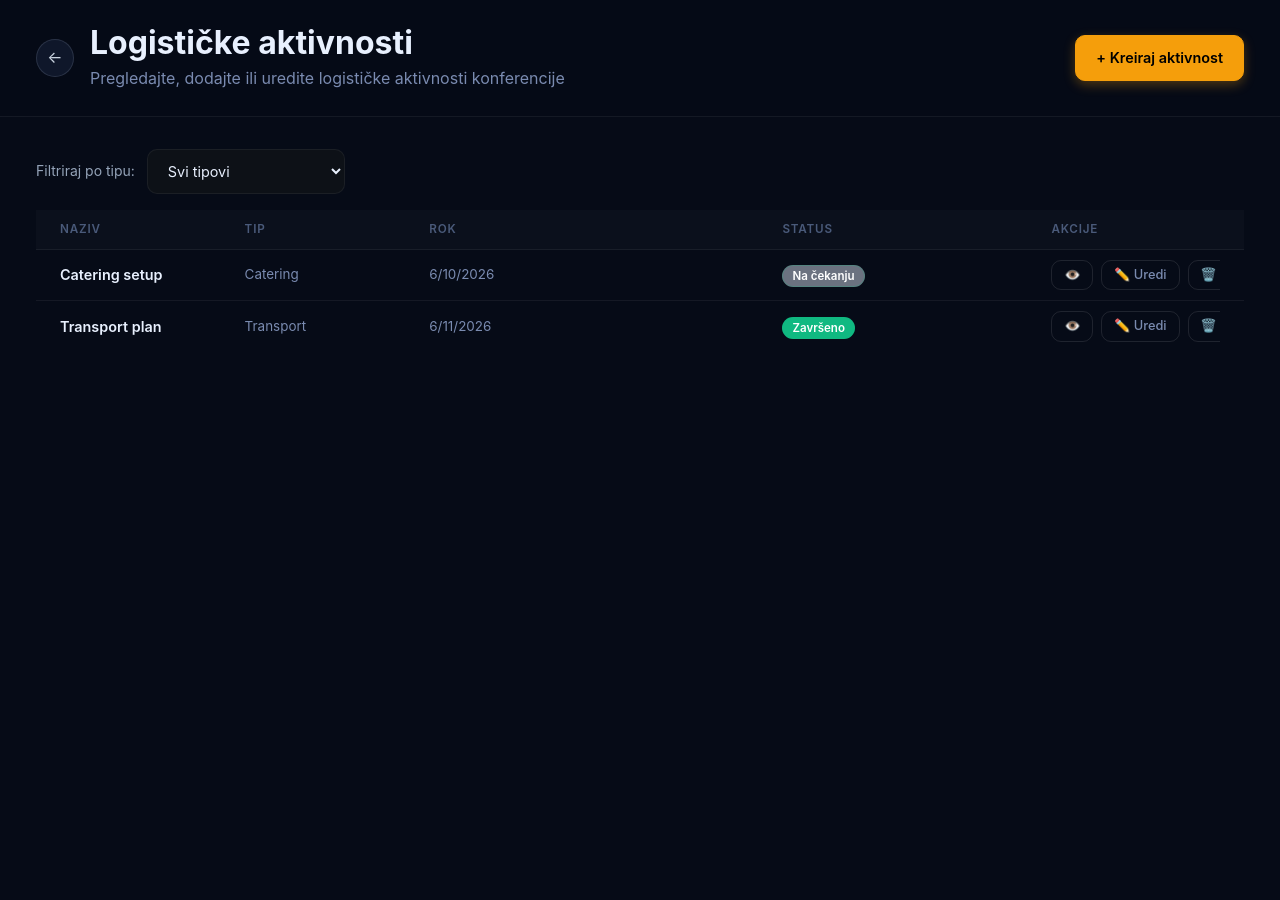
Scenario: LogisticsPage › submit validne forme poziva create API i osvjezava listu
The image size is (1280, 900).
Expected: the text "Catering setup" is shown, [60, 266, 163, 283]
Click the button "+ Kreiraj aktivnost" at point(1160, 58), box [1075, 36, 1244, 80]
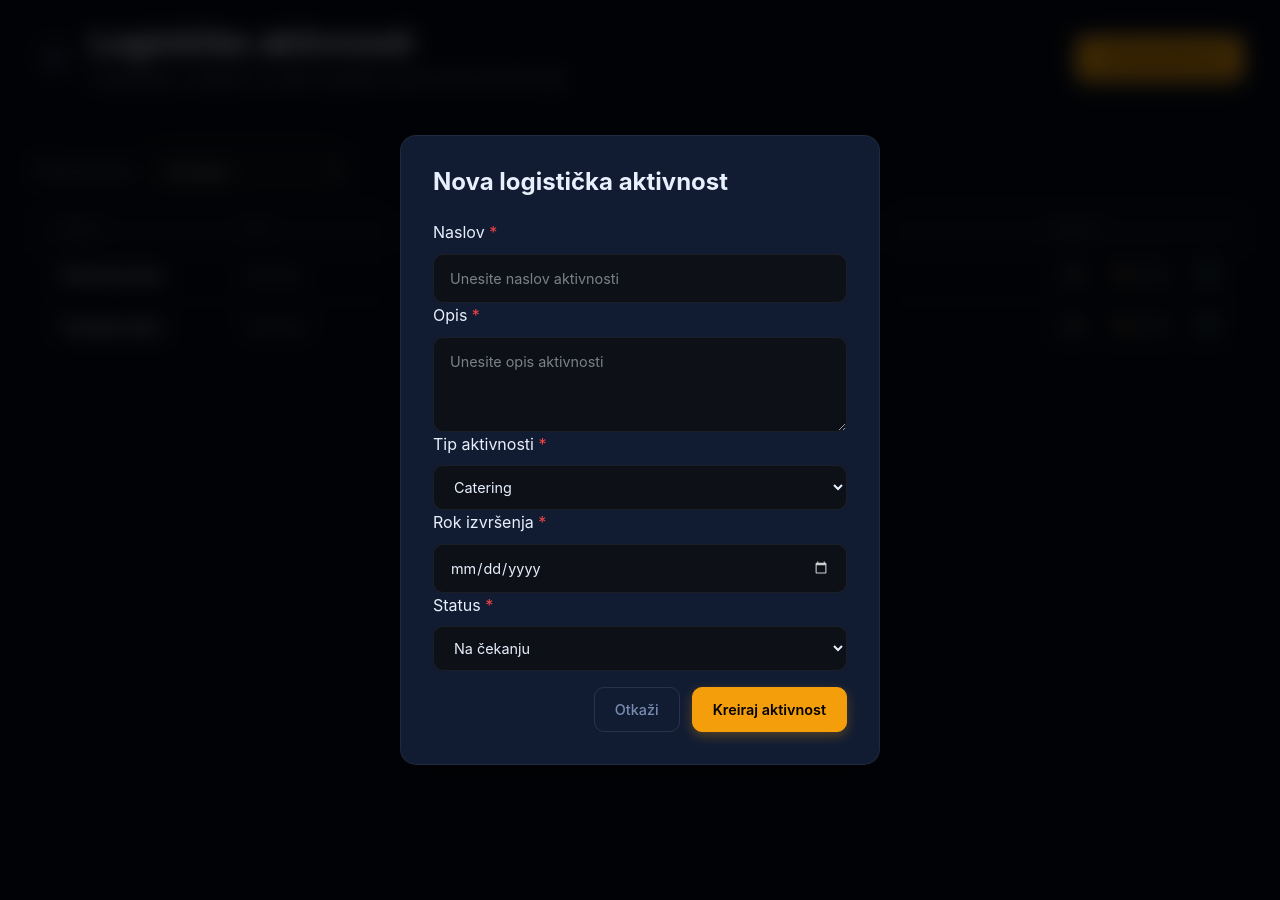
Now the heading "Nova logistička aktivnost" is shown, box [433, 166, 728, 196]
Now the element with placeholder "Unesite naslov aktivnosti" is shown, box [400, 134, 880, 765]
Now the date field is shown, box [433, 544, 847, 593]
Type "Transport check" into the field with placeholder "Unesite naslov aktivnosti" at point(640, 278), box [433, 254, 847, 303]
Type "Confirm vehicles" into the text box with placeholder "Unesite opis aktivnosti" at point(640, 384), box [433, 336, 847, 432]
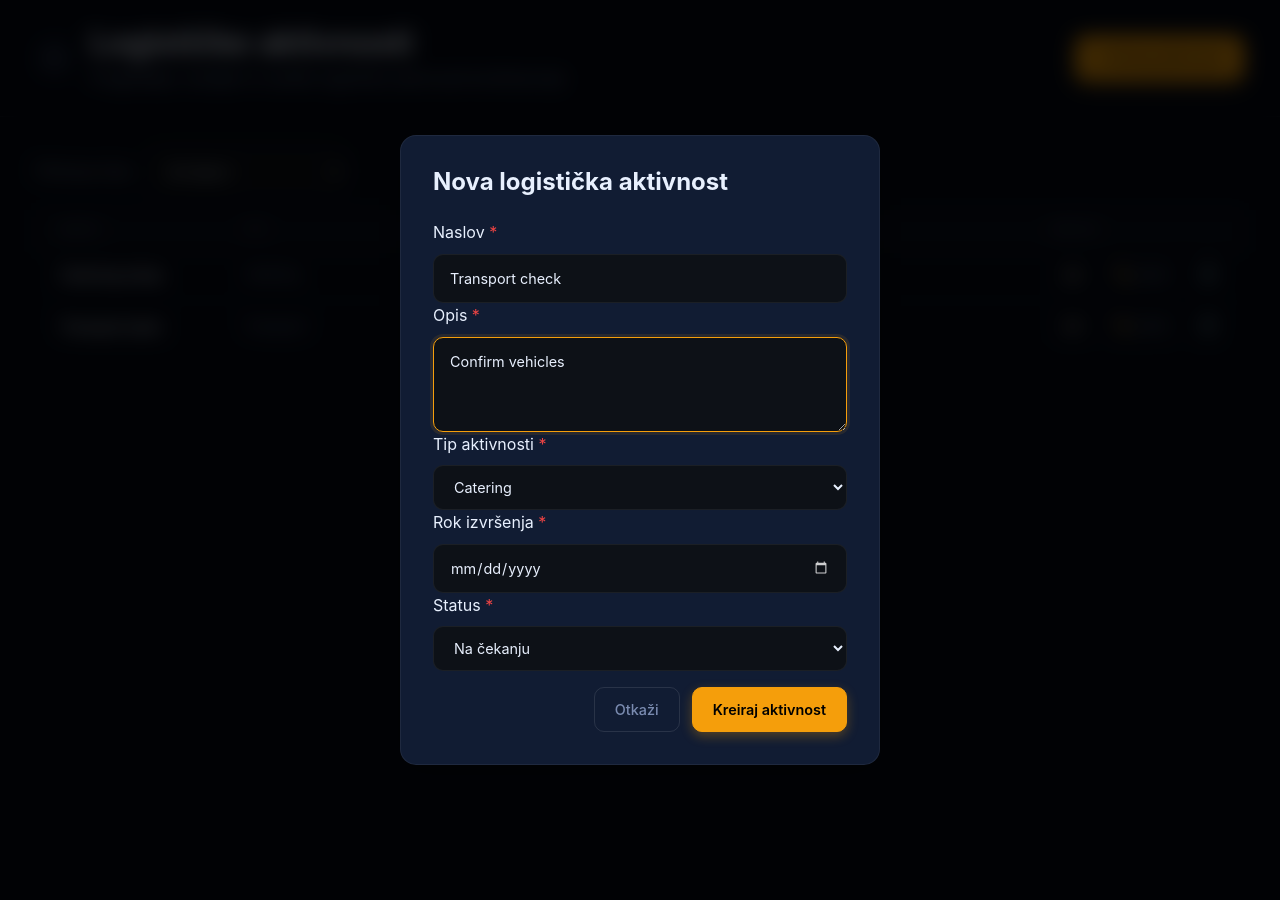
Select "Transport" in the dropdown below "Tip aktivnosti" at point(640, 488), box [433, 465, 847, 510]
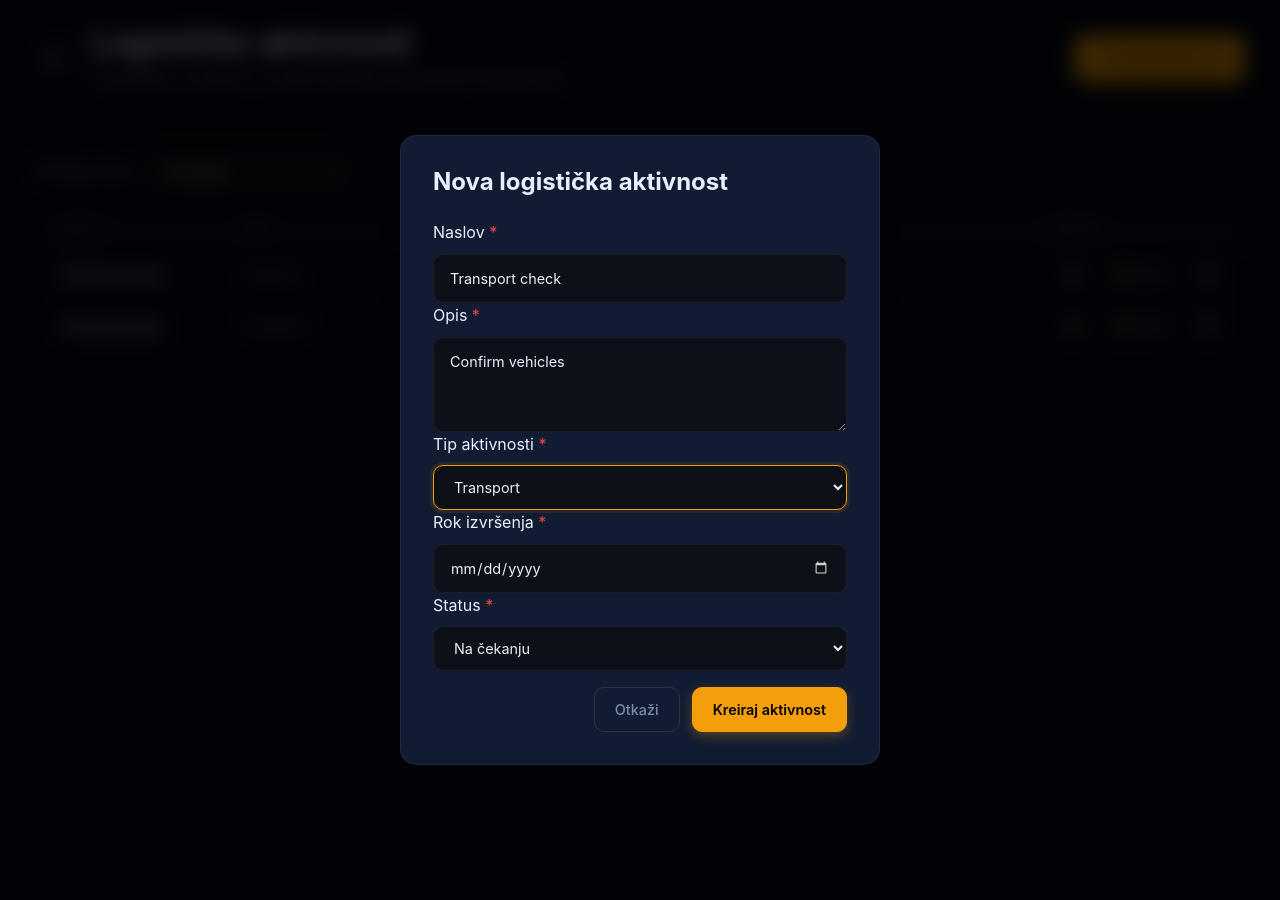
Select "U toku" in the 2nd dropdown at point(640, 649), box [433, 626, 847, 671]
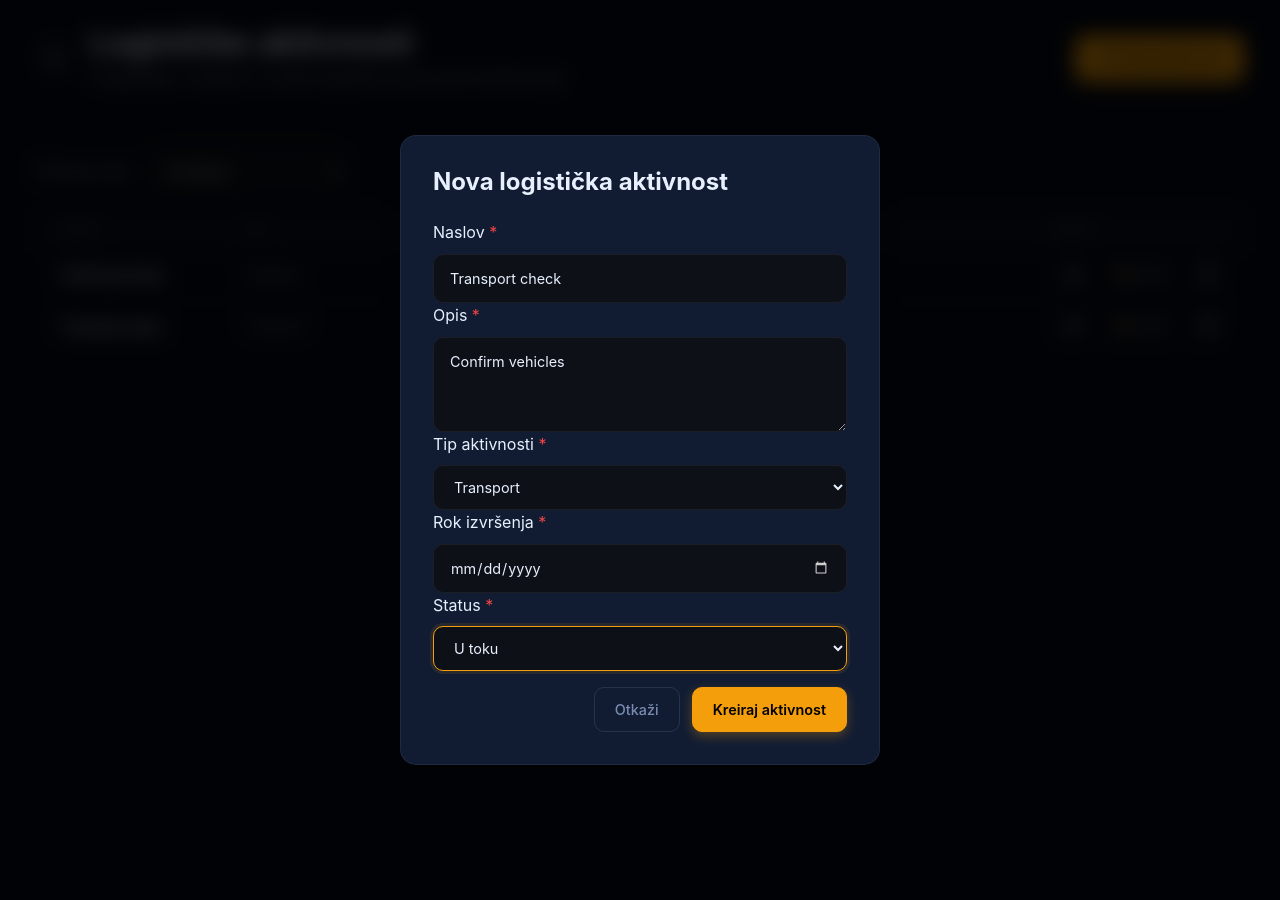
Type "2026-06-20" into the date field at point(640, 568), box [433, 544, 847, 593]
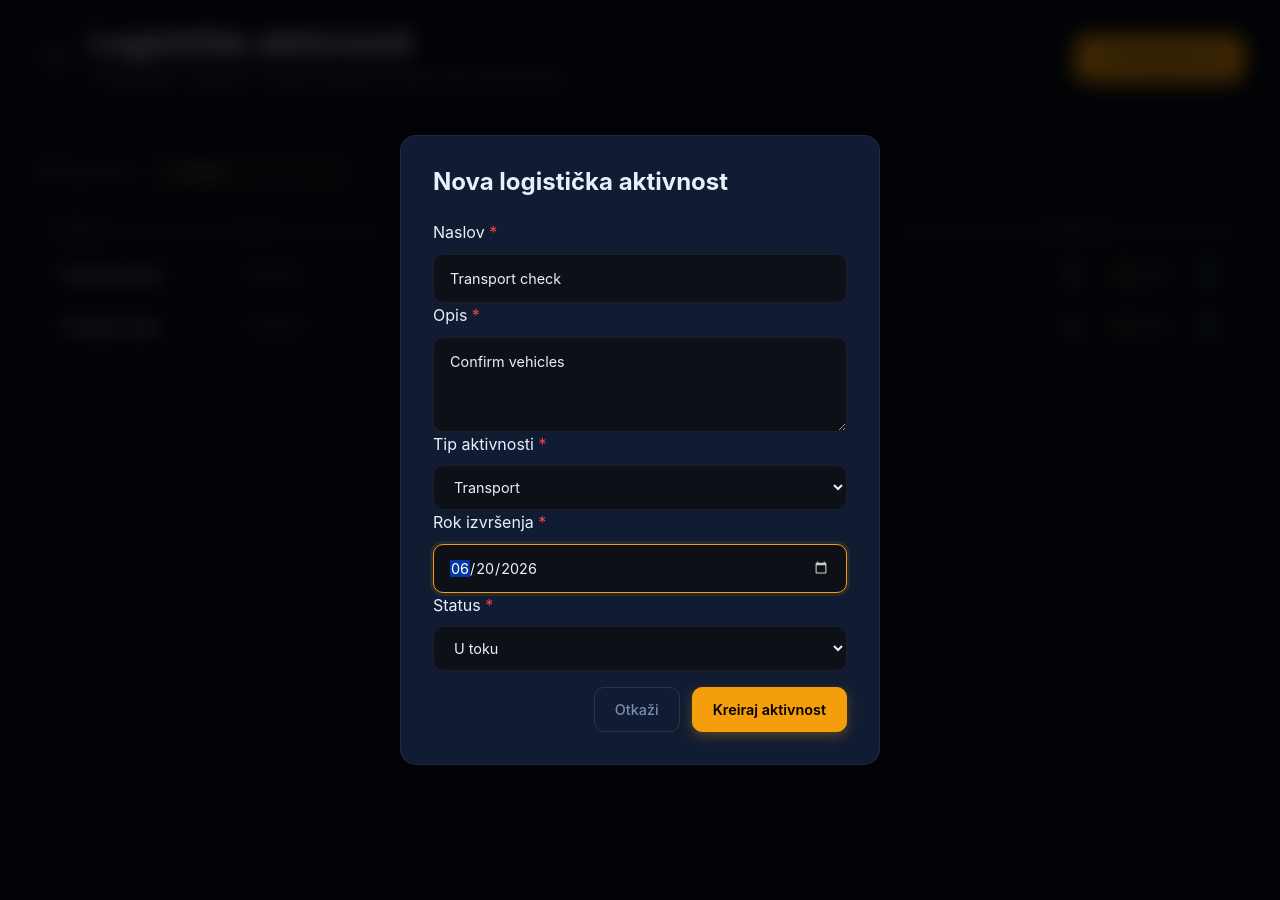
Click the button "Kreiraj aktivnost" at point(769, 710), box [692, 687, 847, 732]
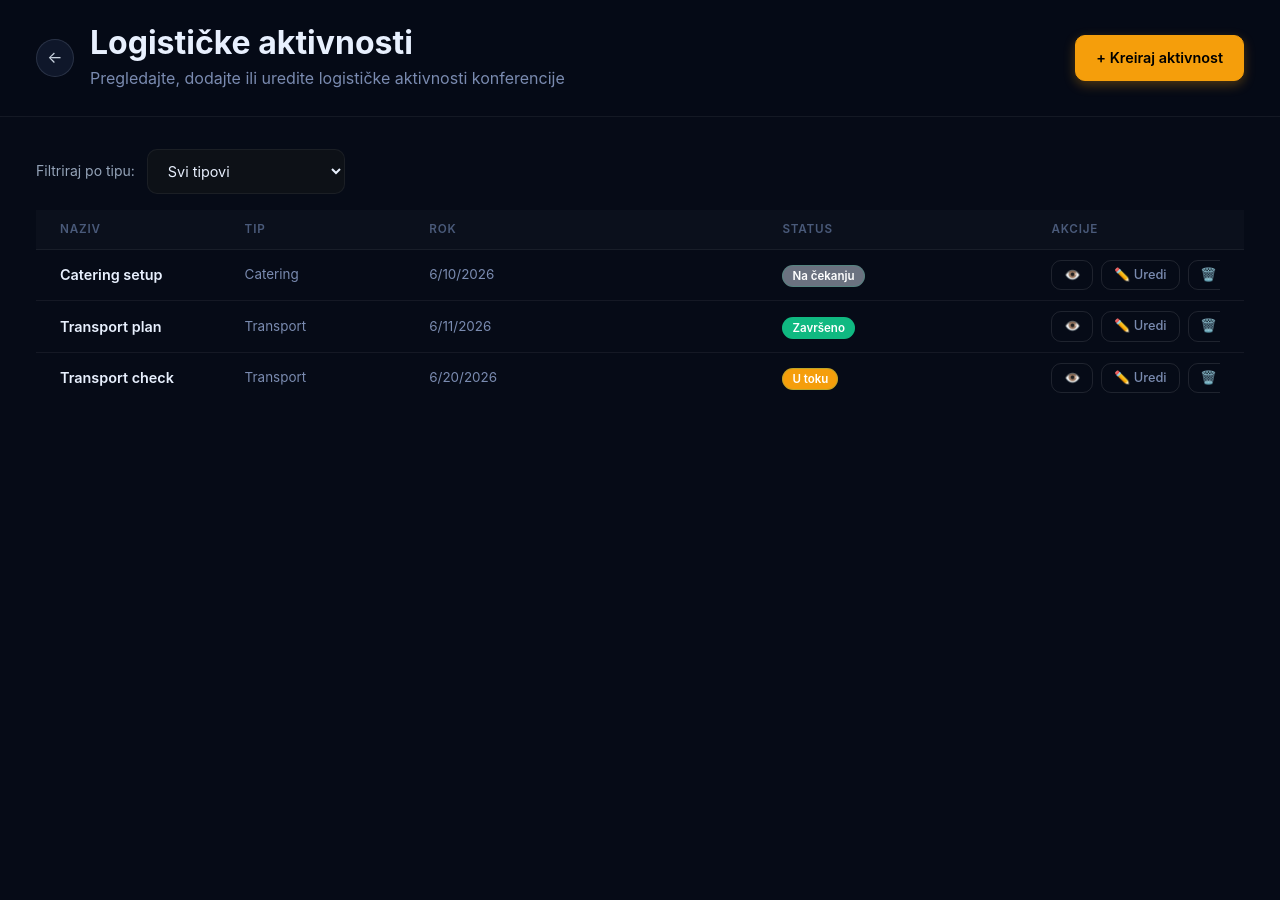
Now the text "Transport check" is shown, box [60, 369, 174, 386]
